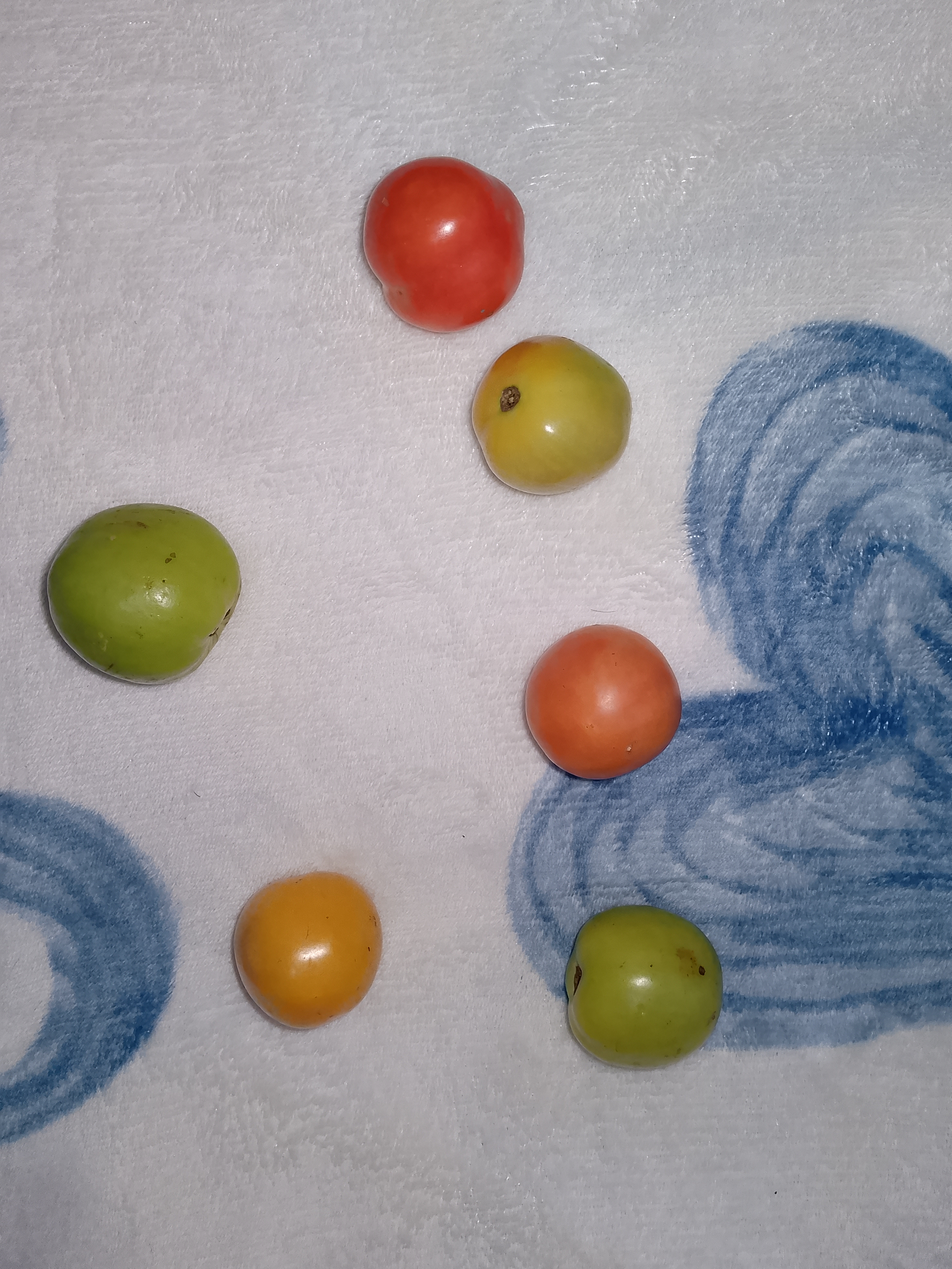Ripe: (330, 122, 553, 345), (488, 592, 716, 802)
Unripe: (31, 475, 286, 698), (197, 843, 433, 1061), (527, 890, 753, 1100), (446, 327, 659, 503)
